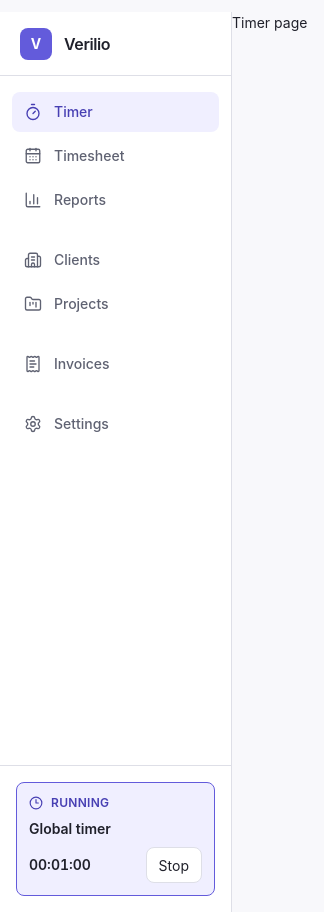
Test: global Timer indicator reconciliation › keeps Running only after a failed Stop is reconciled as running
The width and height of the screenshot is (324, 912).
Step 1. Click the button "Stop" → (174, 865), box [146, 847, 202, 883]
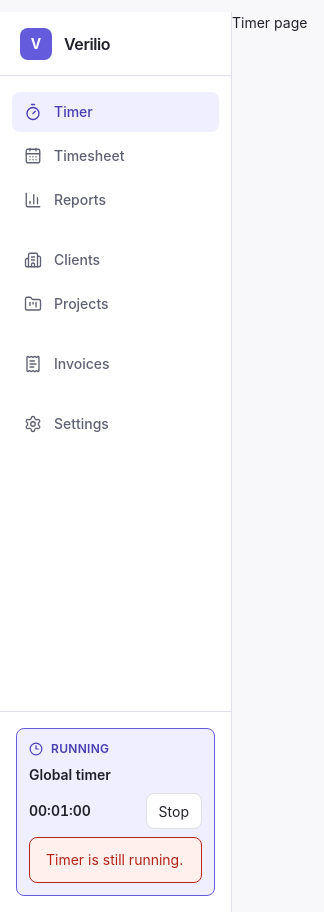
Expected: the text "Running" is shown, [29, 741, 109, 756]
Result: the text "Timer is still running." is shown at [29, 837, 202, 883]
